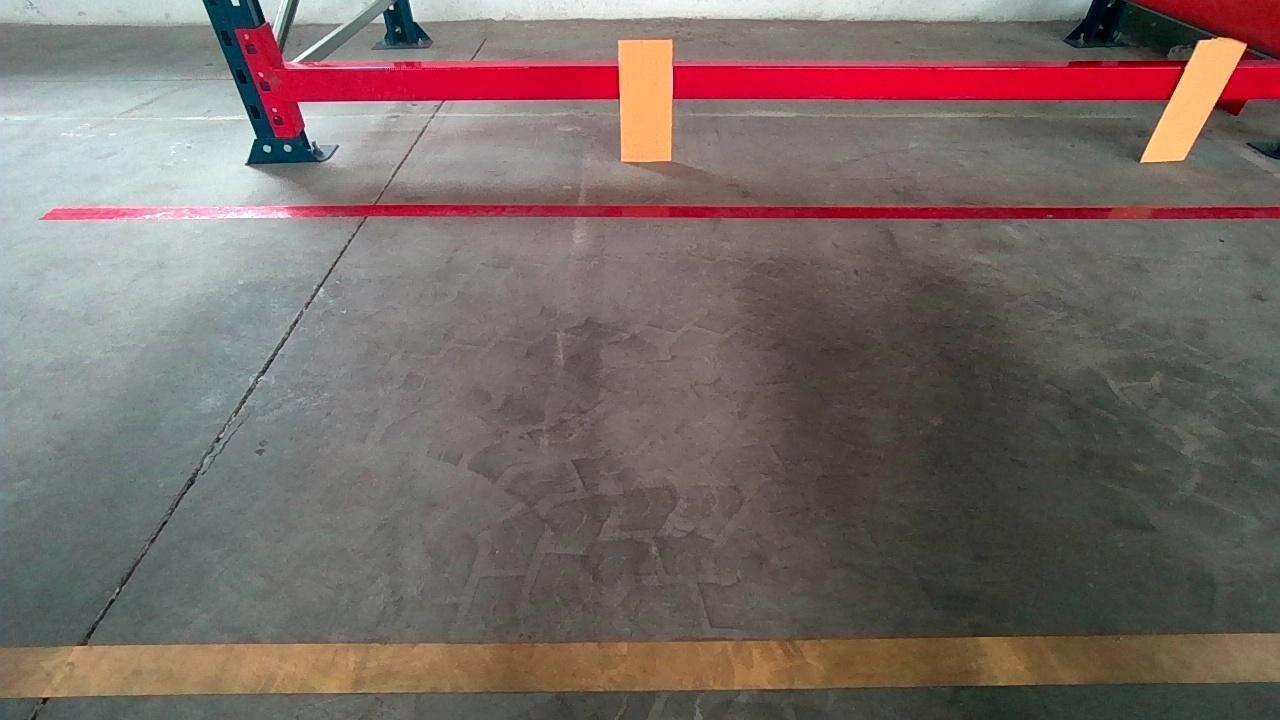h_rack: (282, 65, 1280, 97)
orange_strip: (1143, 40, 1249, 159), (619, 40, 674, 160)
red_line: (38, 204, 1280, 220)
yellow_line: (0, 627, 1279, 704)
